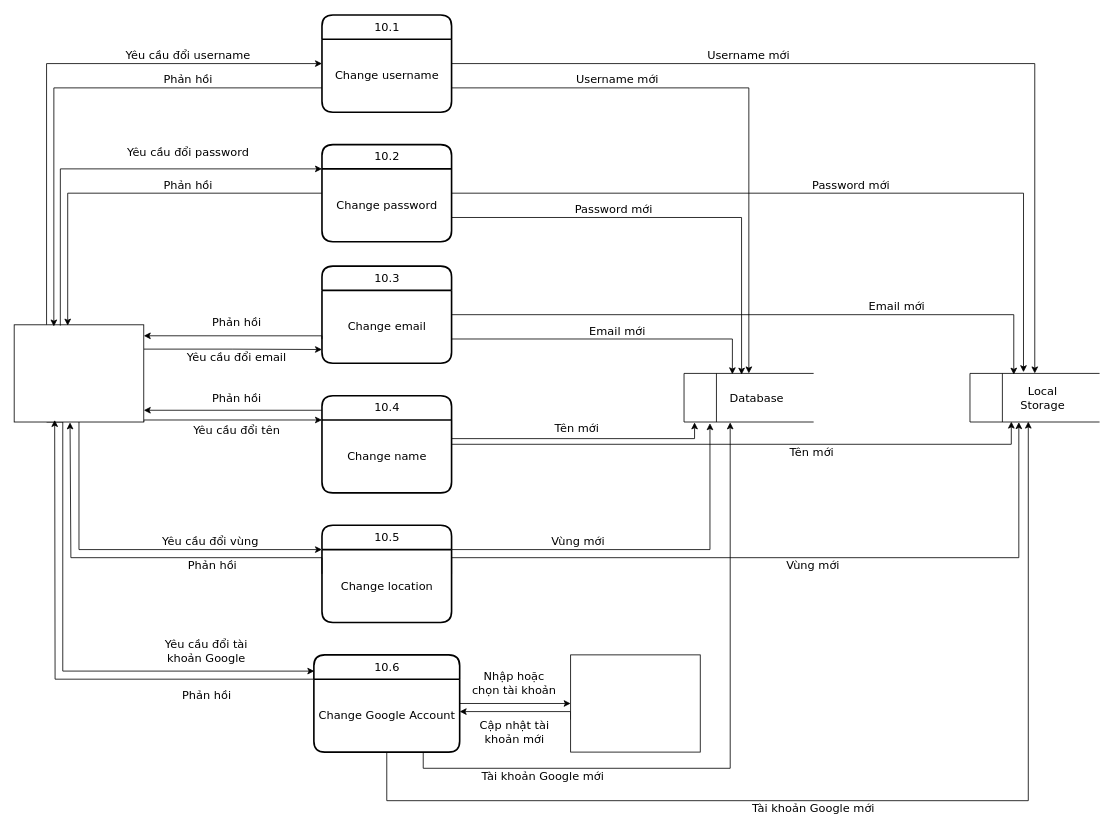
Image size: 1114x830. Some labels were removed from this diagram. The shapes that lost their labels are listed below. From the top down, each one's box as (x1, y1, x2, y2) in pixels, then its label:
(13, 324, 144, 422): User
(570, 654, 700, 752): Google
